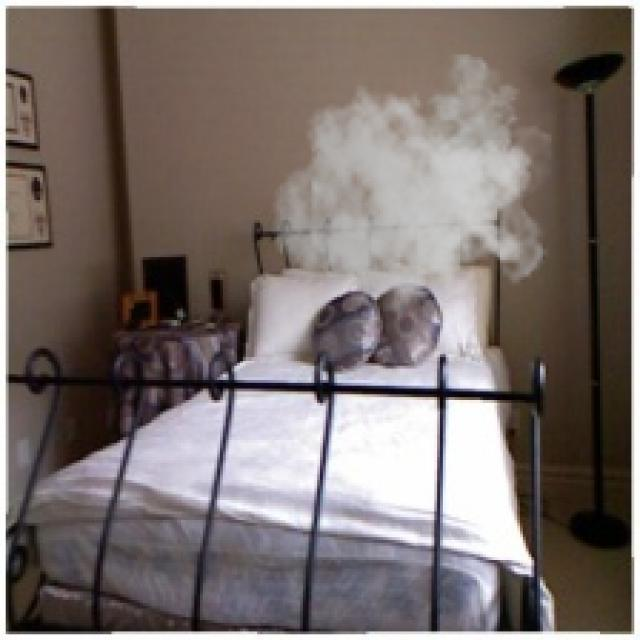Smoke: (272, 55, 552, 332)
